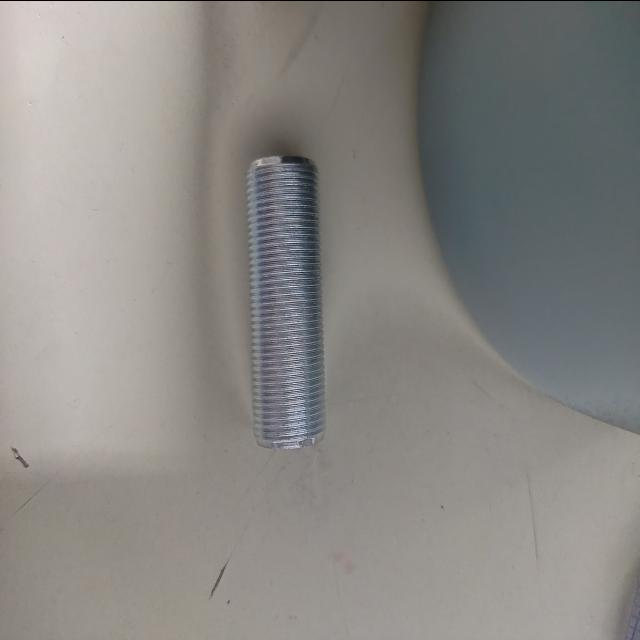Broken: (245, 154, 327, 450)
